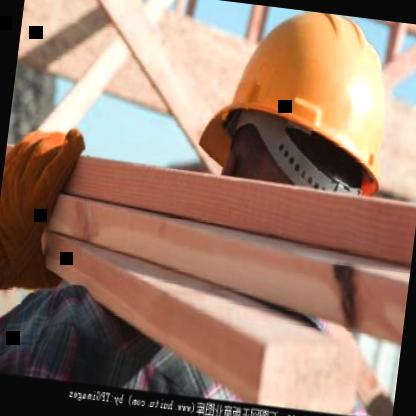helmet: (154, 0, 416, 264)
